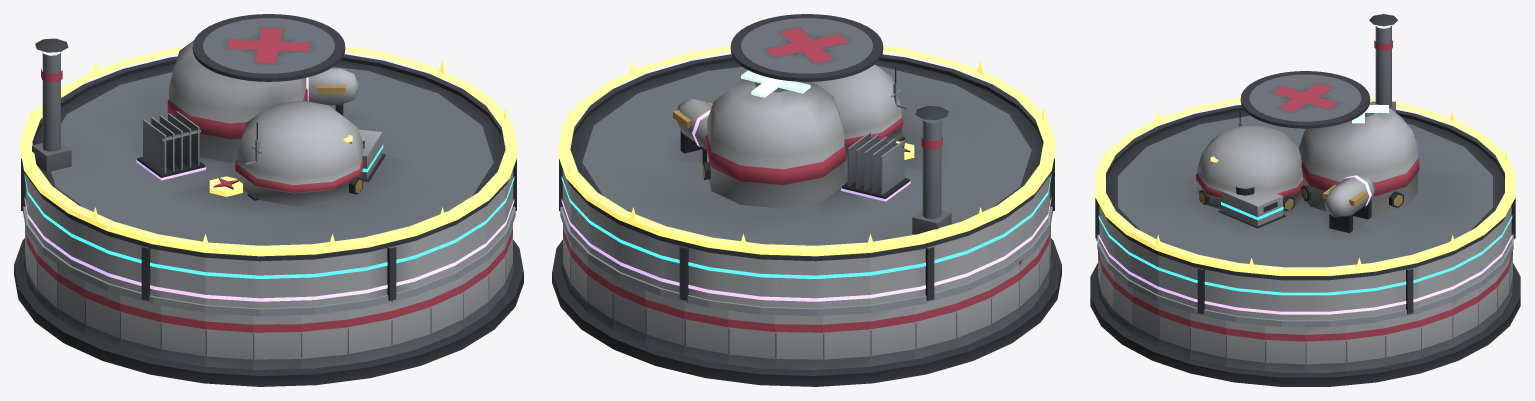
File: bio_lab_s_far.glb
3 views of the same model, side by side, from view 1: azimuth 30°, elevation 25°; view 2: azimuth 150°, elevation 25°; view 3: azimuth 270°, elevation 25° (orthographic). The views are drawn at different scales.
Visible parts, largest first — view 1: Roof, Base, L5, L4, L2, L3; view 2: Roof, Base, L5, L4, L2, L3; view 3: Roof, Base, L5, L4, L3, L2.
Part boxes in pixels (box(x1,y1,x2,y2)): Roof: box(21, 14, 516, 308); Base: box(14, 224, 523, 386); L5: box(20, 46, 517, 256); L4: box(24, 68, 514, 301); L2: box(23, 122, 515, 316); L3: box(24, 129, 514, 278); Roof: box(559, 14, 1054, 308); Base: box(552, 224, 1061, 386); L5: box(558, 46, 1055, 256); L4: box(561, 99, 1051, 301); L2: box(560, 66, 1052, 316); L3: box(561, 174, 1051, 278); Roof: box(1095, 14, 1515, 320); Base: box(1090, 238, 1520, 386); L5: box(1095, 98, 1515, 275); L4: box(1098, 173, 1512, 314); L3: box(1098, 187, 1512, 295); L2: box(1097, 108, 1513, 326).
Bounding box in the file's own units: 10.53 × 5.7 × 10.53.
